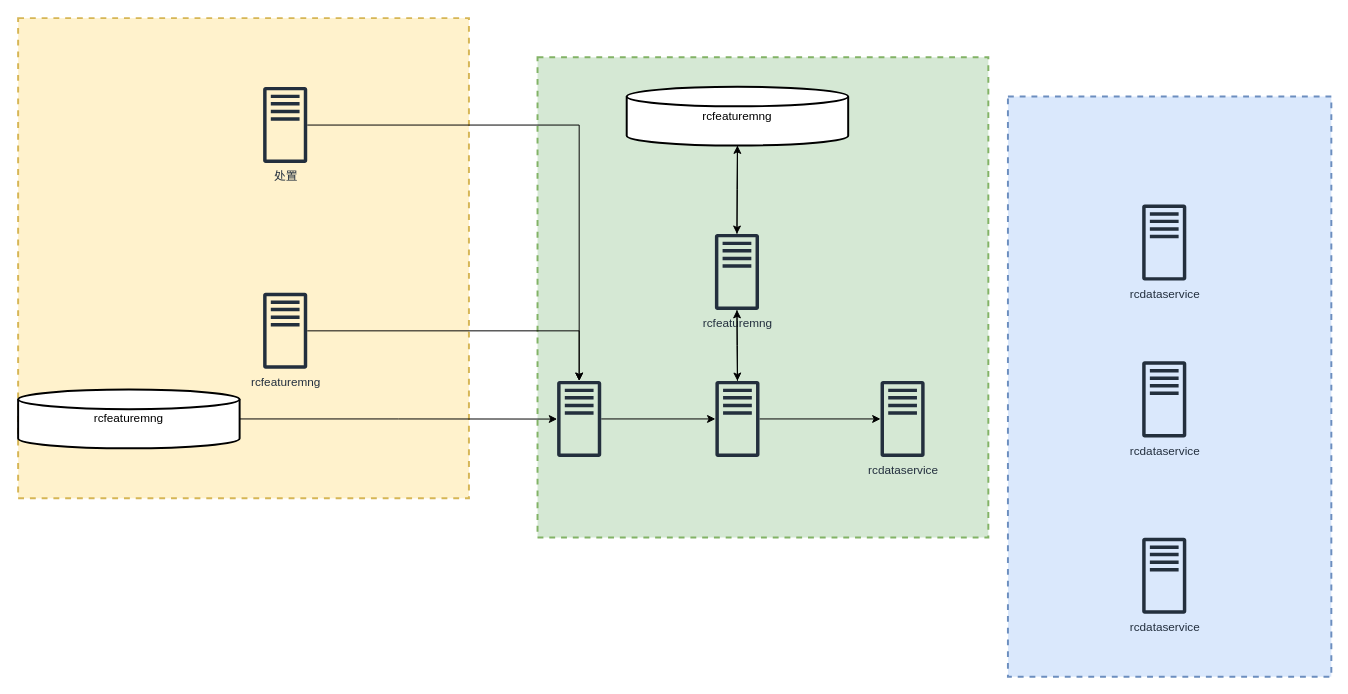
This 1348x694 diagram has some shape labels left out. Here are the shapes that lost their labels. From the top down, the centre of each, then its label:
the point at 579,418: rcdataIntegration
the point at 737,418: rcdatacore
